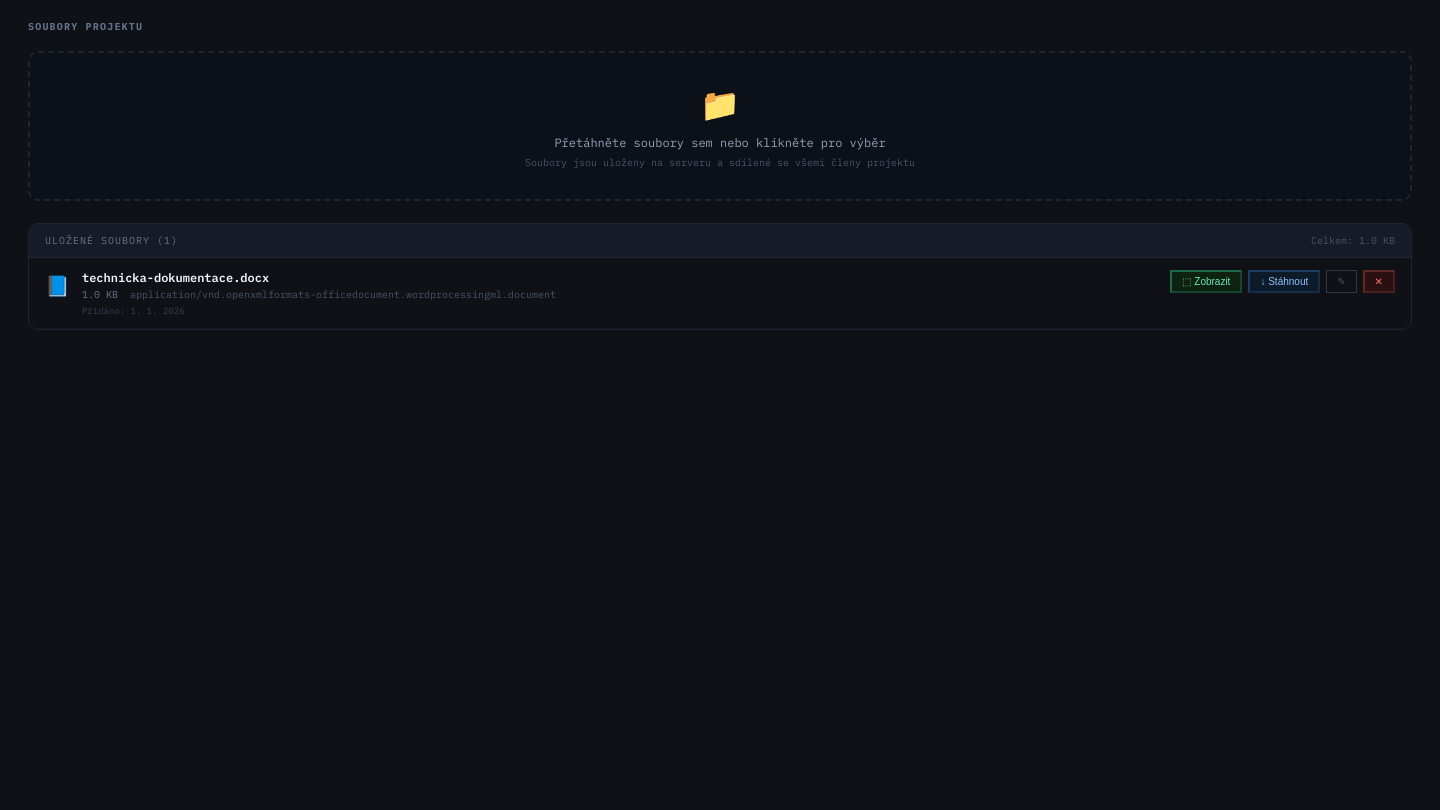
Test: SouboryView — preview souborů › zobrazí obsah Word dokumentu jako HTML (mammoth konverze)
Click the button titled "Zobrazit náhled" at (1206, 282), box x1=1170 y1=270 x2=1242 y2=293
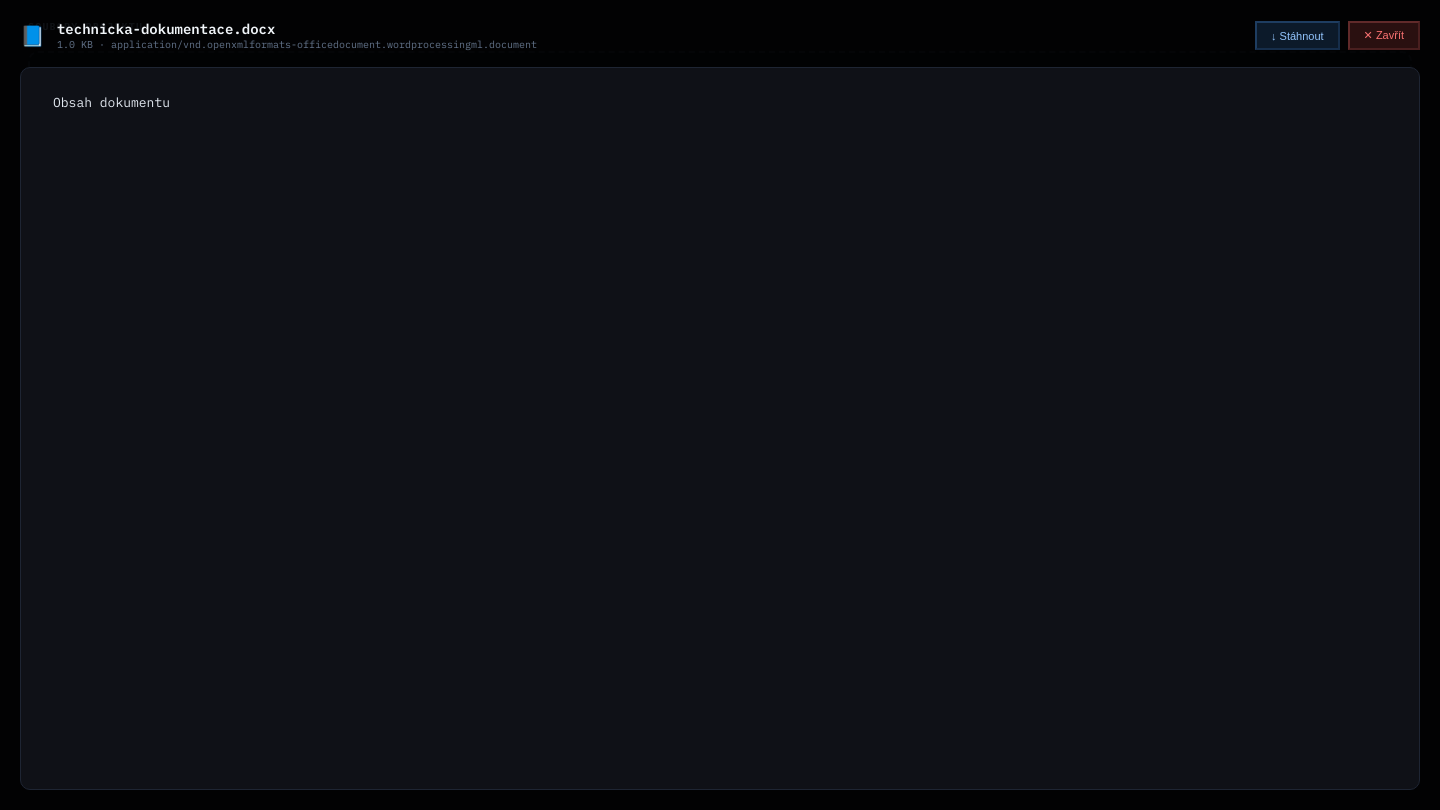
Expected: the text "Obsah dokumentu" is shown, x1=53 y1=94 x2=170 y2=111
